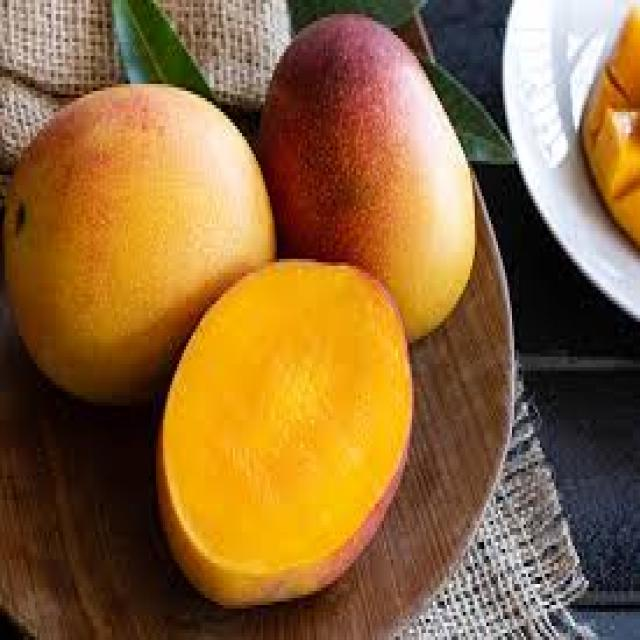mango: (156, 259, 412, 609)
